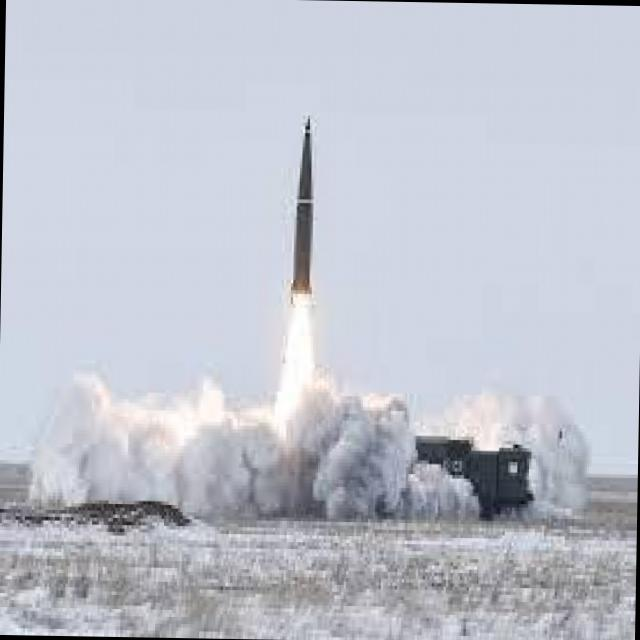rocket: (282, 104, 322, 413)
